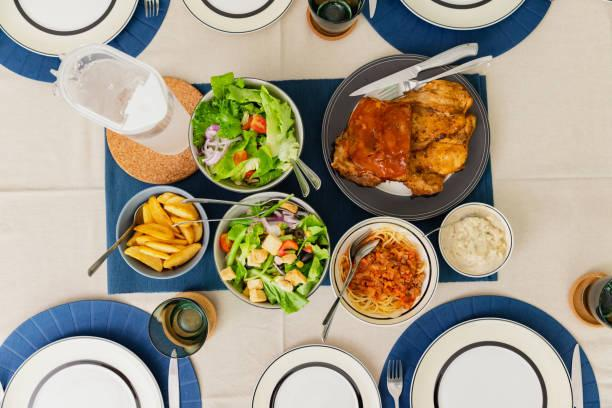Braised Crucian Carp: (322, 53, 492, 218), (210, 191, 327, 310), (188, 77, 302, 193), (327, 215, 438, 326), (115, 186, 208, 280)
